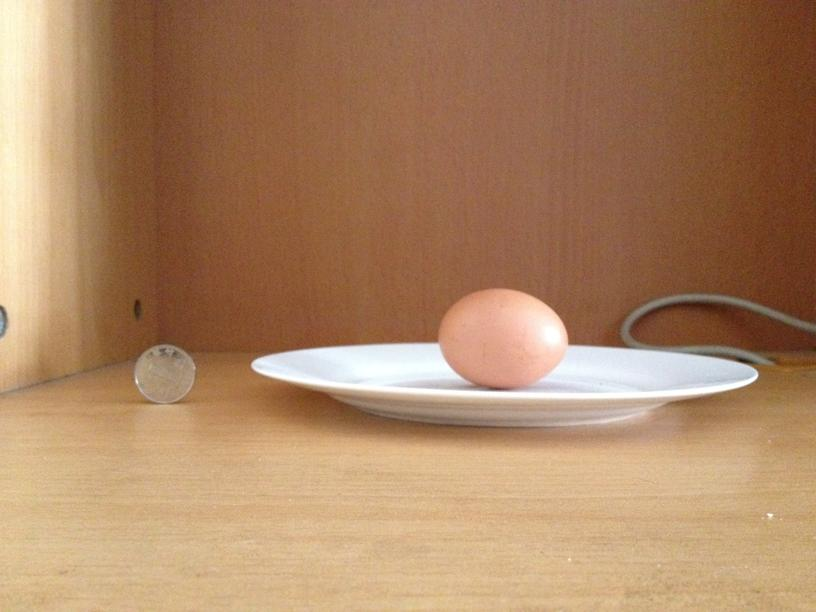coin: (132, 342, 195, 403)
egg: (432, 285, 568, 389)
